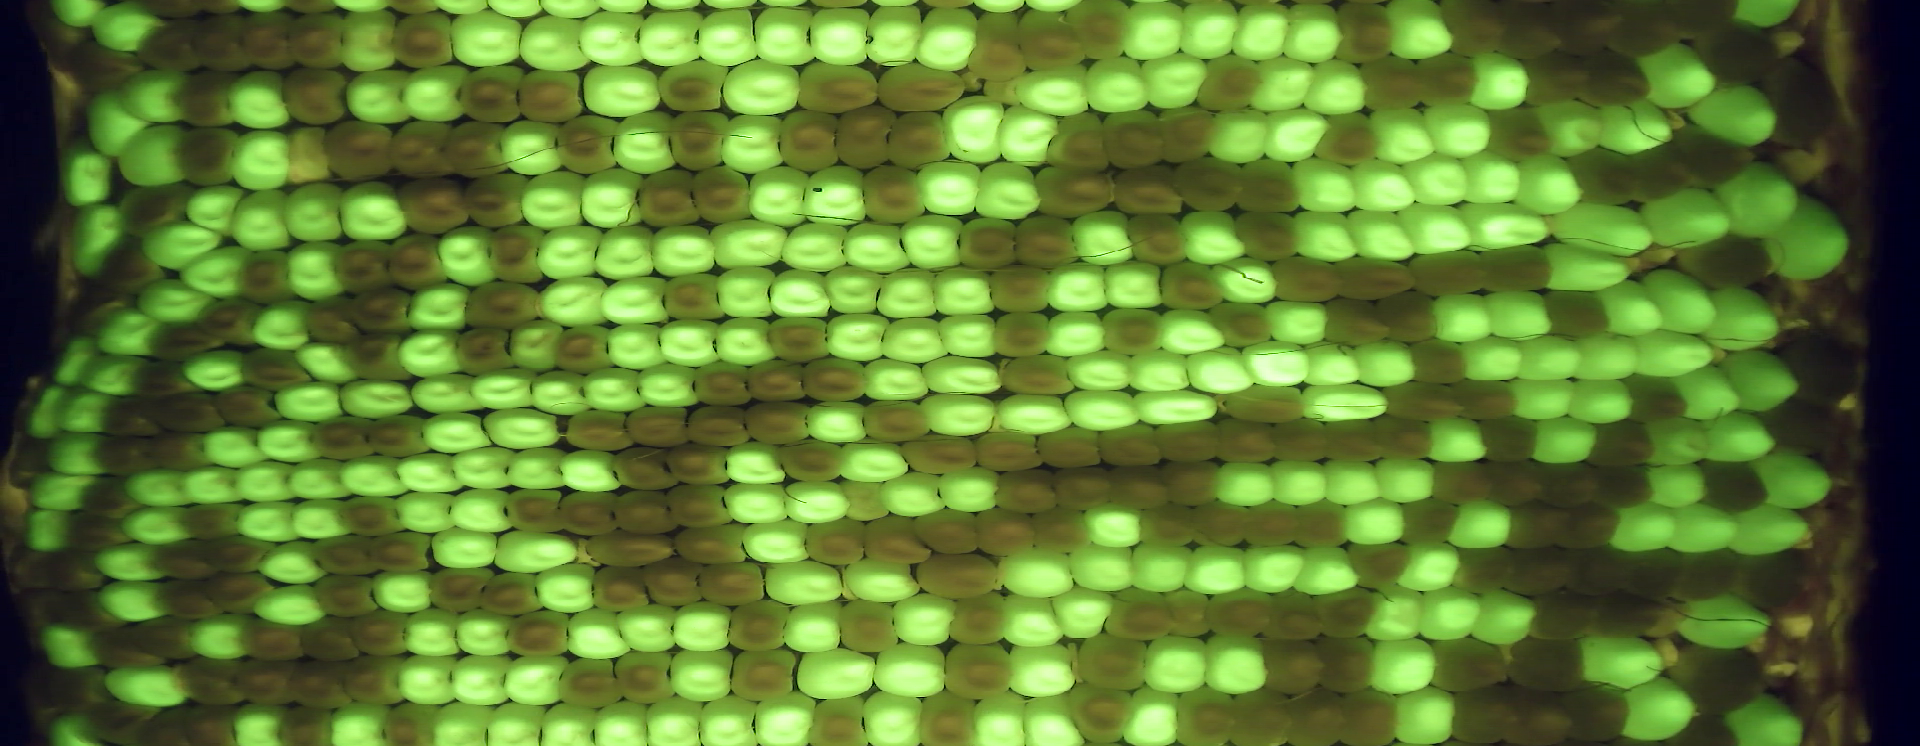fluorescent: (1763, 187, 1859, 287), (1709, 156, 1807, 246), (1632, 183, 1739, 254), (1671, 589, 1780, 657), (1631, 39, 1723, 118), (1550, 197, 1663, 258), (1689, 78, 1783, 149), (1701, 281, 1785, 359), (1716, 345, 1804, 419), (1571, 628, 1668, 693), (936, 89, 1014, 169), (1637, 265, 1720, 339), (1534, 239, 1637, 299), (1749, 448, 1842, 513), (715, 55, 809, 119), (907, 5, 988, 78), (77, 86, 151, 167), (1354, 632, 1442, 699), (64, 197, 132, 283), (1618, 674, 1703, 742), (580, 59, 667, 126), (966, 156, 1046, 229), (1195, 630, 1278, 699), (1010, 60, 1100, 125), (1509, 149, 1596, 216), (223, 183, 300, 256), (1594, 94, 1681, 159), (864, 639, 953, 703), (396, 61, 479, 129), (1477, 283, 1562, 348), (1467, 581, 1547, 650), (111, 122, 193, 190), (1256, 102, 1340, 168), (741, 159, 816, 233), (748, 1, 825, 72), (171, 240, 257, 304), (339, 65, 420, 132), (489, 115, 569, 183), (99, 659, 193, 717), (1062, 205, 1145, 269), (1529, 96, 1613, 160), (1723, 500, 1815, 559), (714, 109, 791, 179), (447, 7, 531, 71), (1460, 198, 1555, 255), (802, 2, 880, 71), (1378, 1, 1458, 67), (1693, 408, 1780, 469), (574, 160, 648, 233), (277, 176, 351, 247), (796, 160, 871, 232), (513, 11, 596, 75), (1720, 688, 1812, 746), (1135, 632, 1213, 699), (994, 544, 1084, 603), (1389, 202, 1482, 258), (113, 66, 195, 130), (1665, 363, 1747, 426), (609, 109, 683, 179), (910, 151, 984, 220), (336, 176, 411, 245), (55, 134, 122, 211), (137, 216, 225, 274), (133, 272, 222, 331), (1365, 103, 1444, 169), (793, 644, 885, 701), (1176, 205, 1255, 269), (913, 349, 1014, 401), (490, 526, 585, 579), (223, 64, 295, 135), (431, 218, 502, 290), (992, 100, 1065, 170), (709, 258, 782, 328), (707, 216, 793, 274), (993, 587, 1071, 652), (662, 644, 741, 709), (640, 220, 725, 281), (516, 168, 595, 232), (1385, 684, 1466, 746), (1289, 153, 1363, 222), (1637, 456, 1719, 517), (1299, 54, 1375, 120), (1135, 51, 1213, 115), (1419, 96, 1498, 159), (1296, 379, 1395, 429), (841, 552, 929, 609), (1340, 207, 1424, 266), (862, 2, 932, 73), (632, 5, 709, 69), (533, 220, 610, 284), (692, 2, 765, 69), (918, 388, 1007, 443), (1344, 156, 1425, 216), (336, 2, 400, 77), (1460, 49, 1534, 114), (1111, 682, 1187, 746), (898, 212, 975, 274), (665, 597, 742, 659), (885, 589, 964, 650), (1453, 145, 1527, 209), (1358, 581, 1431, 646), (1117, 1, 1191, 65), (1059, 383, 1147, 437), (927, 260, 1003, 322), (776, 597, 853, 658), (1284, 541, 1367, 599), (996, 390, 1085, 442), (89, 573, 179, 626), (1153, 303, 1232, 363), (1047, 584, 1125, 644), (282, 236, 349, 306), (389, 325, 473, 381), (1013, 690, 1096, 746), (1082, 51, 1155, 116), (590, 220, 662, 285), (1067, 540, 1146, 599), (478, 403, 571, 453), (561, 603, 636, 665), (534, 272, 615, 330), (1417, 410, 1498, 468), (576, 7, 651, 69), (1000, 639, 1076, 701), (758, 555, 846, 608), (838, 219, 915, 279), (28, 619, 105, 679), (1400, 149, 1477, 209), (86, 1, 168, 58), (1128, 383, 1224, 431), (225, 125, 293, 194), (1280, 1, 1348, 69), (1597, 274, 1668, 339), (1202, 103, 1275, 167), (869, 262, 944, 323), (742, 690, 823, 746), (400, 367, 489, 419), (245, 581, 333, 632), (853, 687, 931, 746), (1630, 328, 1718, 380), (1124, 535, 1195, 599), (1510, 330, 1588, 387), (113, 501, 204, 550), (269, 375, 353, 429), (92, 304, 171, 360), (1529, 415, 1609, 472), (1442, 496, 1522, 552), (1259, 296, 1343, 349), (598, 271, 675, 328), (707, 314, 784, 371), (252, 537, 334, 590), (1604, 499, 1686, 552), (877, 314, 955, 370), (1287, 206, 1365, 262), (531, 559, 605, 619), (392, 649, 465, 709), (1413, 584, 1488, 643), (576, 364, 655, 419), (1346, 334, 1425, 390), (424, 523, 507, 576), (1103, 258, 1179, 316), (1393, 539, 1469, 597), (182, 179, 251, 243), (1040, 258, 1117, 315), (463, 366, 547, 418), (765, 263, 838, 323), (1247, 53, 1319, 113), (250, 413, 332, 465), (775, 218, 849, 277), (610, 600, 683, 659), (1239, 336, 1318, 391), (1637, 413, 1716, 468), (1229, 1, 1296, 66), (448, 649, 516, 713), (416, 408, 500, 459), (399, 279, 475, 336), (1183, 342, 1259, 398), (1176, 540, 1251, 597), (1664, 499, 1741, 554), (334, 372, 419, 423), (396, 604, 469, 661), (289, 339, 367, 393), (796, 394, 878, 446), (838, 436, 920, 488), (1562, 376, 1644, 428), (654, 316, 729, 372), (1423, 290, 1498, 347), (1570, 327, 1644, 383), (1174, 1, 1243, 62), (40, 426, 116, 481), (367, 567, 443, 622), (1209, 252, 1284, 307), (1207, 456, 1284, 510), (244, 296, 317, 353), (601, 318, 675, 375), (1370, 451, 1444, 507), (716, 436, 795, 489), (184, 608, 252, 668), (856, 354, 936, 405), (1040, 307, 1116, 361), (1123, 345, 1199, 399), (740, 518, 816, 572), (1236, 543, 1311, 597), (23, 465, 107, 514), (118, 464, 201, 513), (332, 451, 415, 500), (933, 309, 1005, 365), (933, 461, 1007, 516), (447, 484, 520, 539), (503, 316, 571, 376), (87, 539, 171, 587), (448, 441, 523, 495), (555, 445, 629, 499), (775, 479, 857, 528), (501, 652, 571, 709), (75, 349, 154, 399), (1078, 499, 1150, 554), (280, 454, 358, 506), (387, 488, 464, 539), (1502, 374, 1580, 425), (1335, 496, 1413, 546), (880, 470, 955, 523), (1316, 454, 1392, 506), (225, 499, 305, 548), (819, 258, 887, 316), (718, 479, 795, 529), (197, 420, 272, 472), (824, 309, 895, 363), (13, 503, 84, 557), (1267, 454, 1336, 510), (1063, 345, 1138, 396), (228, 458, 302, 508), (173, 462, 249, 511), (449, 605, 518, 659), (393, 448, 467, 499), (636, 360, 705, 413), (501, 443, 571, 496), (285, 495, 358, 545), (1298, 337, 1367, 390), (174, 348, 253, 393), (696, 691, 760, 746), (966, 692, 1032, 746), (426, 698, 500, 746), (481, 696, 551, 746), (529, 699, 604, 746), (1461, 336, 1529, 386), (525, 367, 591, 419), (640, 695, 707, 746), (323, 698, 394, 746), (587, 698, 651, 746), (21, 382, 71, 443), (225, 697, 287, 746), (48, 332, 97, 390), (39, 709, 99, 746), (45, 1, 108, 31)
nonfluorescent: (1760, 51, 1845, 156), (1664, 639, 1774, 720), (1771, 327, 1866, 412), (1690, 16, 1785, 89), (1665, 120, 1761, 192), (1026, 159, 1125, 228), (1674, 229, 1777, 293), (1502, 628, 1593, 698), (1569, 47, 1662, 111), (659, 103, 740, 176), (1555, 679, 1643, 746), (1425, 633, 1515, 699), (958, 9, 1033, 86), (1735, 543, 1813, 617), (392, 171, 478, 239), (874, 58, 973, 115), (1440, 680, 1526, 746), (789, 58, 883, 118), (380, 116, 460, 186), (1040, 109, 1120, 179), (456, 276, 553, 333), (318, 116, 400, 185), (1060, 677, 1142, 746), (855, 160, 938, 228), (1095, 583, 1184, 646), (1326, 684, 1416, 746), (1755, 399, 1847, 459), (829, 100, 902, 175), (880, 103, 955, 176), (1560, 145, 1644, 209), (376, 225, 456, 294), (91, 234, 174, 299), (1005, 211, 1089, 276), (913, 549, 1009, 605), (1691, 456, 1776, 519), (551, 109, 629, 178), (1478, 99, 1558, 167), (1495, 684, 1581, 746), (1071, 631, 1152, 697), (113, 176, 200, 238), (334, 326, 418, 390), (1011, 6, 1091, 72), (939, 638, 1019, 704), (1120, 205, 1196, 273), (1095, 105, 1172, 173), (440, 116, 518, 183), (650, 58, 735, 119), (82, 621, 171, 679), (632, 163, 707, 232), (1308, 631, 1385, 697), (1547, 1, 1630, 62), (1329, 251, 1425, 304), (994, 349, 1082, 407), (456, 169, 536, 232), (1222, 684, 1303, 746), (279, 62, 351, 132), (170, 120, 245, 187), (1327, 1, 1402, 69), (1277, 685, 1359, 746), (1190, 49, 1266, 115), (1624, 138, 1700, 205), (59, 279, 136, 344), (1411, 47, 1488, 111), (828, 594, 906, 658), (65, 38, 144, 100), (1602, 1, 1681, 64), (1231, 156, 1310, 218), (858, 511, 943, 570), (1149, 100, 1222, 168), (687, 159, 760, 227), (1520, 589, 1605, 647), (284, 654, 360, 719), (1667, 548, 1749, 608), (582, 526, 684, 573), (168, 653, 251, 712), (1253, 635, 1332, 696), (235, 9, 307, 76), (169, 67, 241, 135), (907, 505, 988, 565), (326, 234, 400, 299), (1169, 156, 1251, 214), (138, 390, 236, 439), (1476, 241, 1559, 299), (1029, 420, 1116, 475), (186, 9, 255, 78), (776, 107, 845, 176), (484, 220, 552, 290), (1494, 1, 1566, 67), (1401, 246, 1491, 299), (1229, 207, 1305, 269), (1581, 590, 1667, 646), (1111, 162, 1193, 219), (1513, 49, 1596, 107), (24, 11, 96, 77), (282, 9, 353, 75), (1199, 586, 1282, 642), (1502, 541, 1582, 600), (1171, 684, 1245, 746), (1582, 416, 1667, 472), (1433, 1, 1513, 59), (1537, 285, 1618, 343), (514, 66, 590, 127), (1284, 496, 1360, 557), (1375, 379, 1469, 428), (1063, 1, 1136, 64), (1155, 258, 1234, 316), (986, 463, 1065, 521), (125, 610, 204, 668), (726, 644, 801, 706), (984, 258, 1060, 318), (336, 650, 411, 710), (235, 342, 320, 396), (684, 356, 765, 413), (620, 398, 700, 454), (604, 485, 684, 541), (895, 429, 986, 479), (456, 62, 524, 129), (666, 518, 754, 570), (391, 9, 463, 71), (1374, 285, 1447, 347), (1220, 383, 1319, 429), (561, 403, 640, 459), (1615, 371, 1695, 428), (943, 590, 1018, 650), (502, 605, 577, 665), (135, 13, 203, 78), (144, 576, 229, 628), (189, 292, 266, 349), (954, 213, 1025, 276), (611, 644, 682, 707), (661, 478, 740, 534), (584, 559, 658, 619), (724, 595, 797, 655), (759, 311, 839, 366), (302, 410, 382, 465), (1358, 50, 1424, 116), (910, 688, 986, 746), (1564, 543, 1640, 600), (1622, 543, 1691, 606), (1149, 416, 1229, 470), (1025, 502, 1102, 559), (1446, 541, 1523, 598), (231, 612, 313, 665), (970, 503, 1043, 562), (1311, 110, 1385, 169), (1587, 459, 1660, 518), (1550, 500, 1629, 555), (1262, 254, 1348, 304), (659, 269, 733, 327), (1209, 413, 1283, 470), (639, 551, 709, 612), (206, 380, 287, 432), (774, 435, 855, 488), (693, 556, 774, 609), (795, 350, 872, 405), (1092, 418, 1169, 473), (44, 661, 121, 717), (1100, 303, 1173, 360), (555, 654, 628, 712), (48, 586, 130, 637), (735, 396, 814, 448), (331, 489, 410, 541), (605, 443, 684, 496), (860, 393, 936, 448), (345, 282, 418, 339), (553, 484, 626, 541), (148, 532, 225, 586), (1318, 295, 1395, 349), (1496, 501, 1573, 555), (228, 654, 301, 710), (1313, 583, 1378, 647), (231, 246, 298, 309), (1044, 462, 1123, 514), (144, 317, 227, 367), (501, 484, 576, 539), (60, 503, 135, 559), (6, 586, 65, 655), (1259, 587, 1329, 646), (196, 568, 277, 619), (549, 323, 622, 379), (801, 692, 876, 746), (1480, 456, 1555, 510), (293, 610, 362, 668), (345, 604, 416, 660), (681, 401, 757, 453), (448, 323, 520, 379), (662, 437, 735, 492), (801, 514, 873, 570), (1237, 497, 1309, 552), (195, 532, 276, 581), (426, 563, 500, 617), (1101, 462, 1176, 514), (310, 571, 384, 624), (1472, 413, 1547, 465), (1395, 495, 1464, 551), (40, 545, 113, 599), (971, 428, 1048, 478), (80, 698, 160, 746), (1156, 454, 1226, 510), (1403, 334, 1473, 390), (1536, 457, 1605, 512), (1424, 458, 1499, 510), (1343, 539, 1418, 590), (1367, 412, 1438, 465), (142, 426, 218, 477), (360, 527, 436, 577), (2, 540, 69, 598), (1264, 414, 1336, 467), (125, 356, 204, 404), (1133, 499, 1201, 554), (304, 530, 381, 579), (80, 472, 149, 526), (1446, 377, 1524, 425), (362, 409, 433, 462), (1653, 1, 1742, 43), (84, 432, 158, 481), (1160, 583, 1218, 644), (476, 570, 547, 620), (1318, 416, 1389, 467), (989, 309, 1056, 363), (1191, 497, 1255, 552), (741, 355, 811, 405), (1209, 299, 1278, 349), (175, 499, 250, 545), (299, 294, 364, 347), (88, 394, 159, 442), (175, 697, 244, 746), (380, 697, 447, 746), (276, 701, 339, 746), (20, 654, 65, 717), (133, 701, 193, 746), (9, 431, 55, 479)
